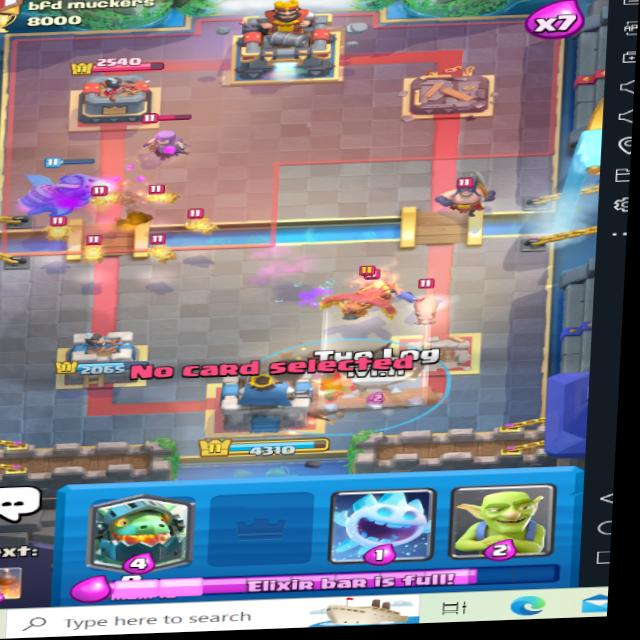executioner: (434, 173, 497, 219)
lumberjack: (303, 356, 373, 395)
mother-witch: (129, 112, 202, 168)
phoenix: (316, 275, 405, 327)
pig: (405, 279, 444, 327)
